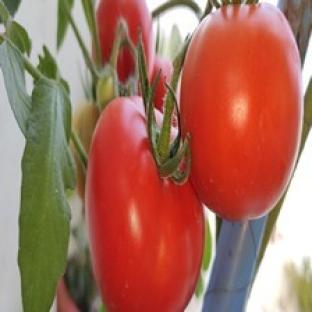Tomato: (180, 5, 302, 220), (87, 98, 204, 311), (73, 102, 100, 153), (151, 55, 172, 111)
